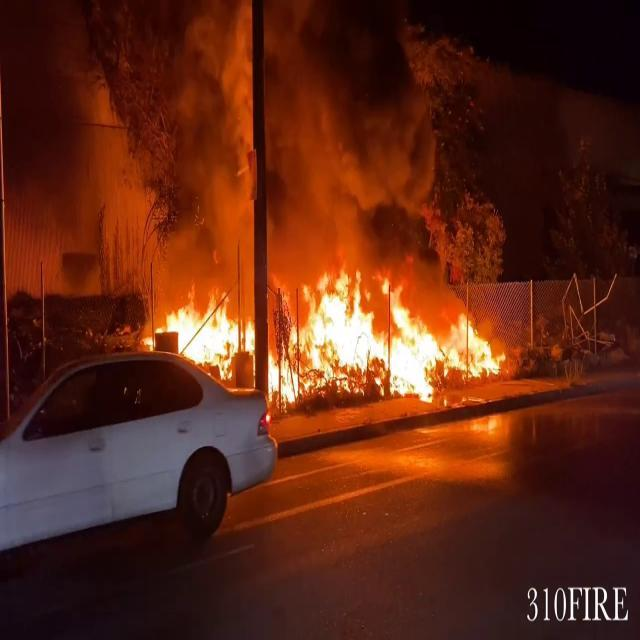Fire: (148, 264, 507, 408)
Smoke: (4, 0, 430, 276)
